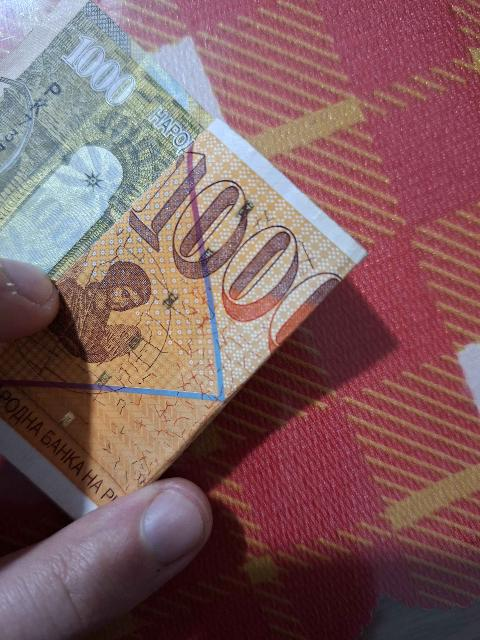1000_note: (0, 3, 364, 510)
